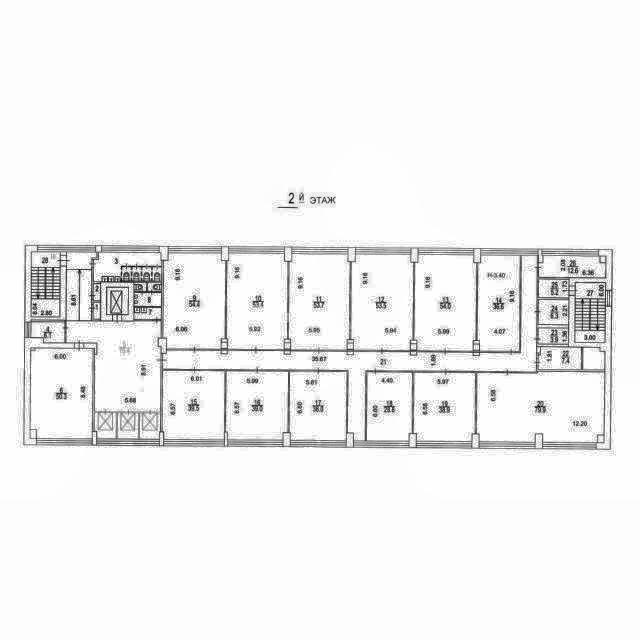room: (157, 216, 577, 499), (65, 252, 162, 412), (476, 371, 605, 443), (163, 253, 225, 350), (351, 254, 413, 351), (414, 255, 476, 351), (227, 253, 288, 350), (289, 253, 350, 350), (30, 348, 93, 439), (413, 372, 476, 442), (162, 371, 225, 440), (226, 371, 288, 441), (478, 255, 520, 351), (289, 372, 347, 441), (366, 372, 412, 441), (93, 253, 161, 282), (31, 252, 60, 317), (575, 283, 605, 343), (538, 256, 606, 278), (538, 347, 582, 370), (539, 300, 569, 325), (31, 322, 65, 343), (106, 288, 128, 315), (539, 279, 569, 298), (583, 348, 605, 370), (538, 328, 568, 344), (134, 293, 161, 306), (134, 307, 161, 320), (98, 412, 112, 430), (143, 413, 157, 430), (121, 413, 134, 430), (148, 282, 162, 292), (122, 267, 131, 281), (142, 267, 151, 281), (152, 267, 161, 281), (94, 284, 101, 301), (133, 267, 141, 281), (93, 303, 100, 319), (134, 283, 146, 291)
